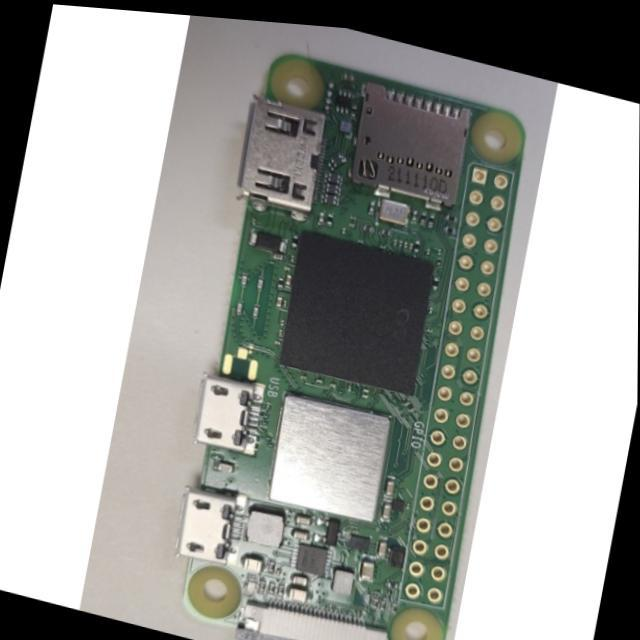Raspberry-Pi-Zero-2-W: (180, 55, 525, 640)
